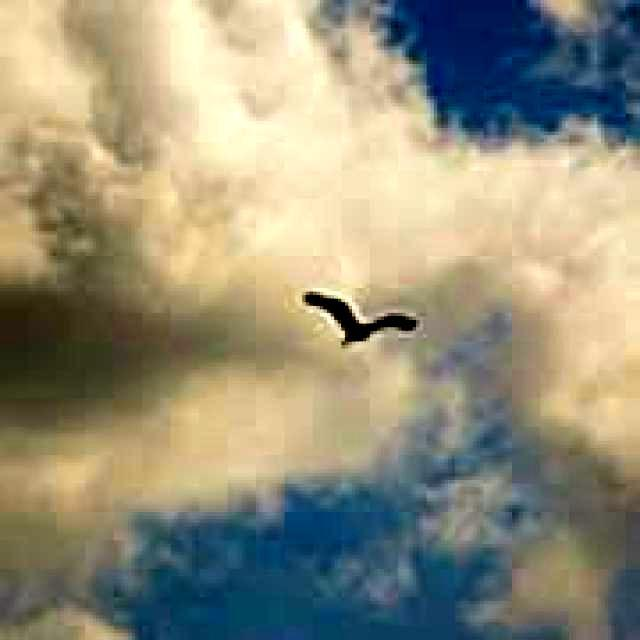bird: (302, 290, 418, 348)
